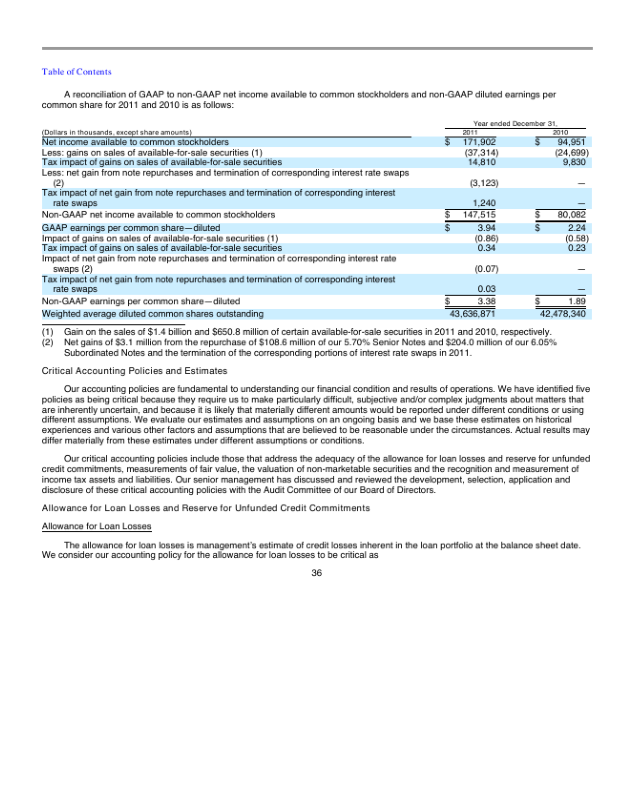table: (430, 118, 594, 317)
